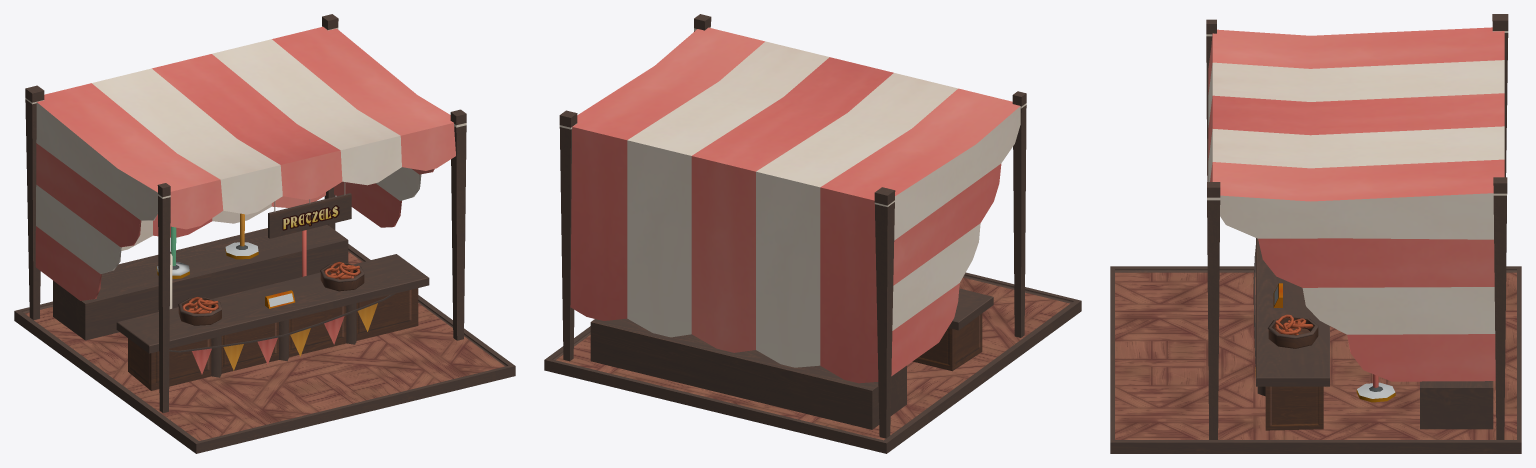
Rendered from Booth_Pretzelgame.glb.
3 renders of one model, left to right at view 1: azimuth 30°, elevation 25°; view 2: azimuth 150°, elevation 25°; view 3: azimuth 270°, elevation 25°, orthographic. The views are drawn at different scales.
Parts seen in each view (by area): view 1: Booth_Pretzelgame; view 2: Booth_Pretzelgame; view 3: Booth_Pretzelgame.
Boxes of the visible parts, x1,y1,x2,y2 form: Booth_Pretzelgame: [14, 14, 515, 453]; Booth_Pretzelgame: [544, 14, 1081, 453]; Booth_Pretzelgame: [1110, 14, 1521, 453].
Size of what is drawn, in the model's own units: 6.6 by 4.65 by 6.51.
Materials: 7 (7 with a texture image).
